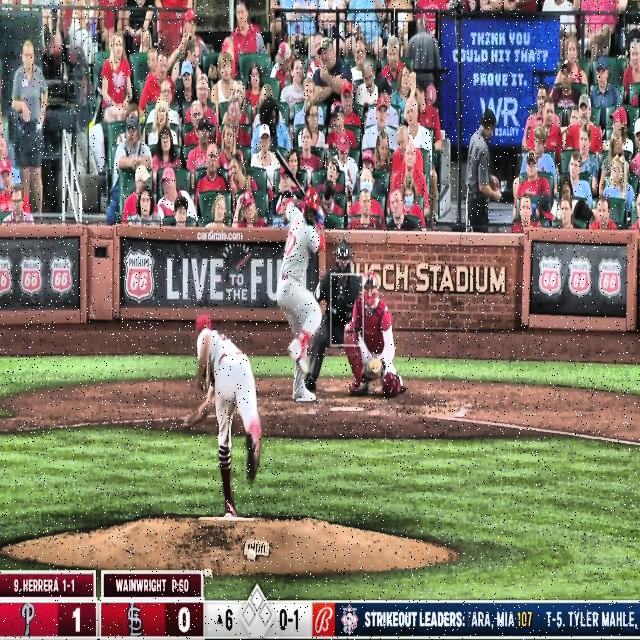baseball: (307, 230, 317, 244)
